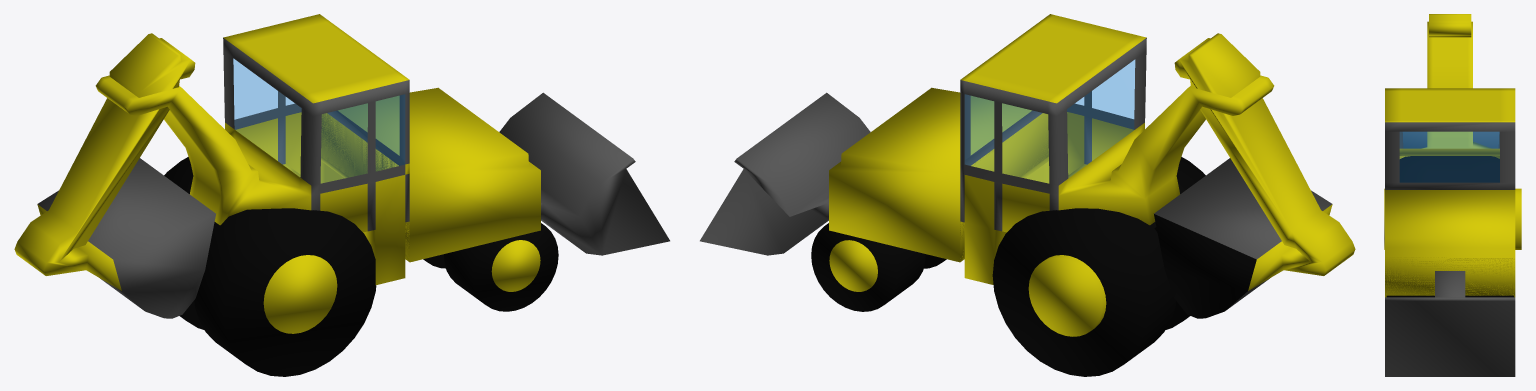
File: heavy_equipment.fbx
3 views of the same model, side by side, from view 1: azimuth 30°, elevation 25°; view 2: azimuth 150°, elevation 25°; view 3: azimuth 270°, elevation 25° (orthographic). The views are drawn at different scales.
Parts seen in each view (by area): view 1: Plane; view 2: Plane; view 3: Plane.
Part boxes in pixels (x1,y1,x2,y2): Plane: [14, 14, 669, 376]; Plane: [700, 14, 1355, 376]; Plane: [1384, 14, 1521, 376].
Bounding box in the file's own units: 340 × 174 × 93.66.
